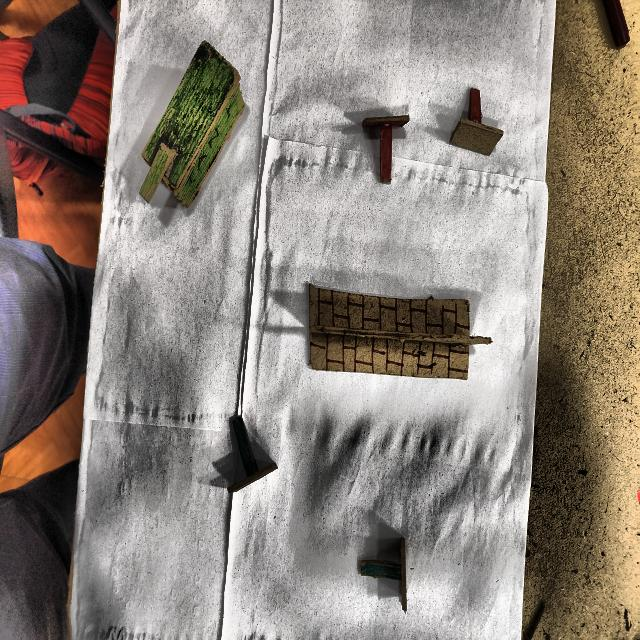Dead soldier -enemy-: (447, 87, 505, 160), (360, 113, 411, 185)
Dead soldier -frd-: (219, 408, 279, 496), (357, 525, 411, 614)
Tank: (138, 42, 245, 213)
Wall: (305, 286, 490, 384)
